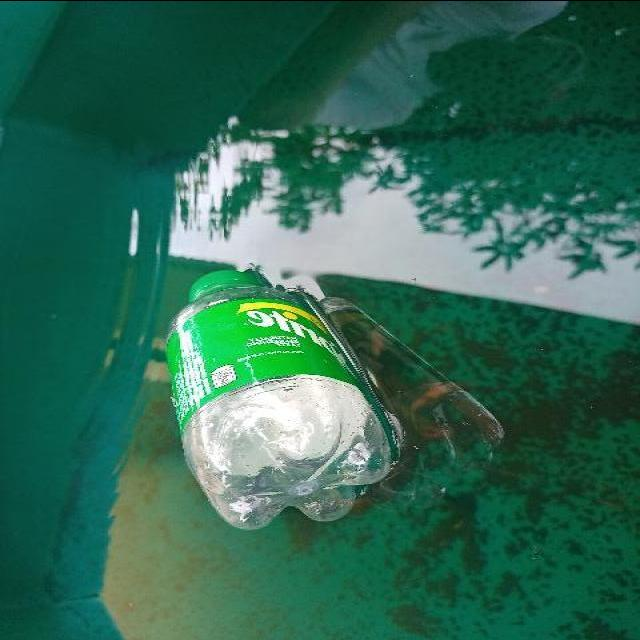Bottle: (156, 258, 407, 542)
